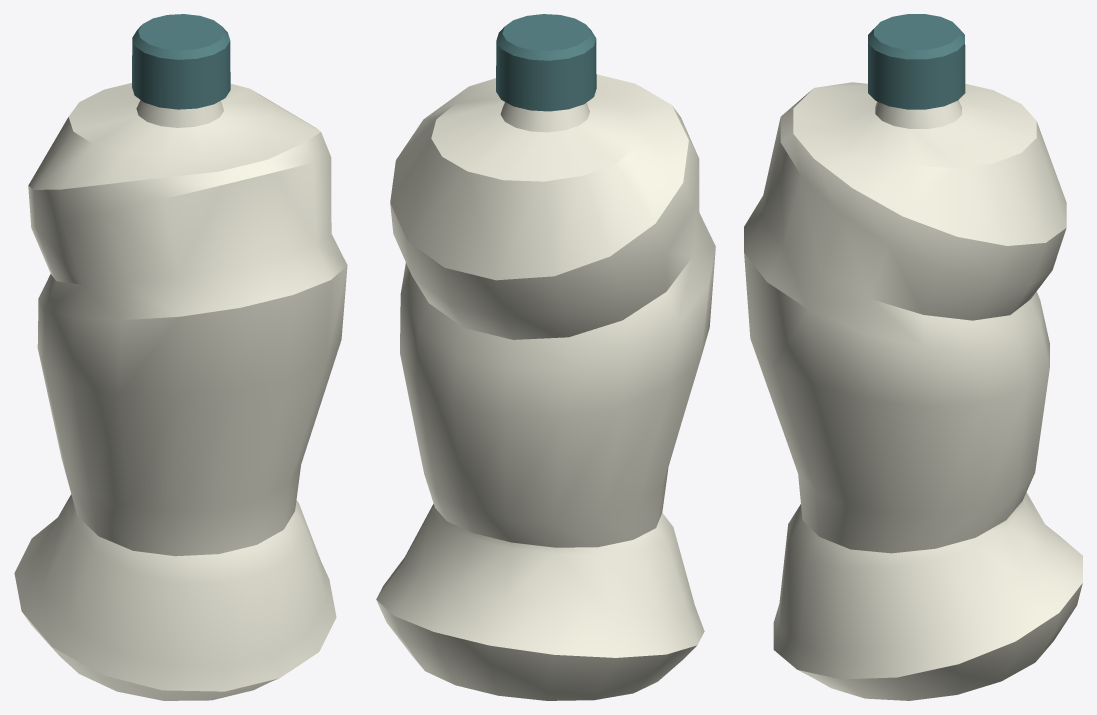
Rendered from Botella_11.fbx.
3 views of the same model, side by side, from view 1: azimuth 30°, elevation 25°; view 2: azimuth 150°, elevation 25°; view 3: azimuth 270°, elevation 25° (orthographic).
Parts seen in each view (by area): view 1: Botella_11; view 2: Botella_11; view 3: Botella_11.
Part boxes in pixels (x1,y1,x2,y2): Botella_11: (14,14,347,700); Botella_11: (376,14,715,700); Botella_11: (744,14,1082,700).
Size of the model in its own units: 26.75 by 57.67 by 28.14.
